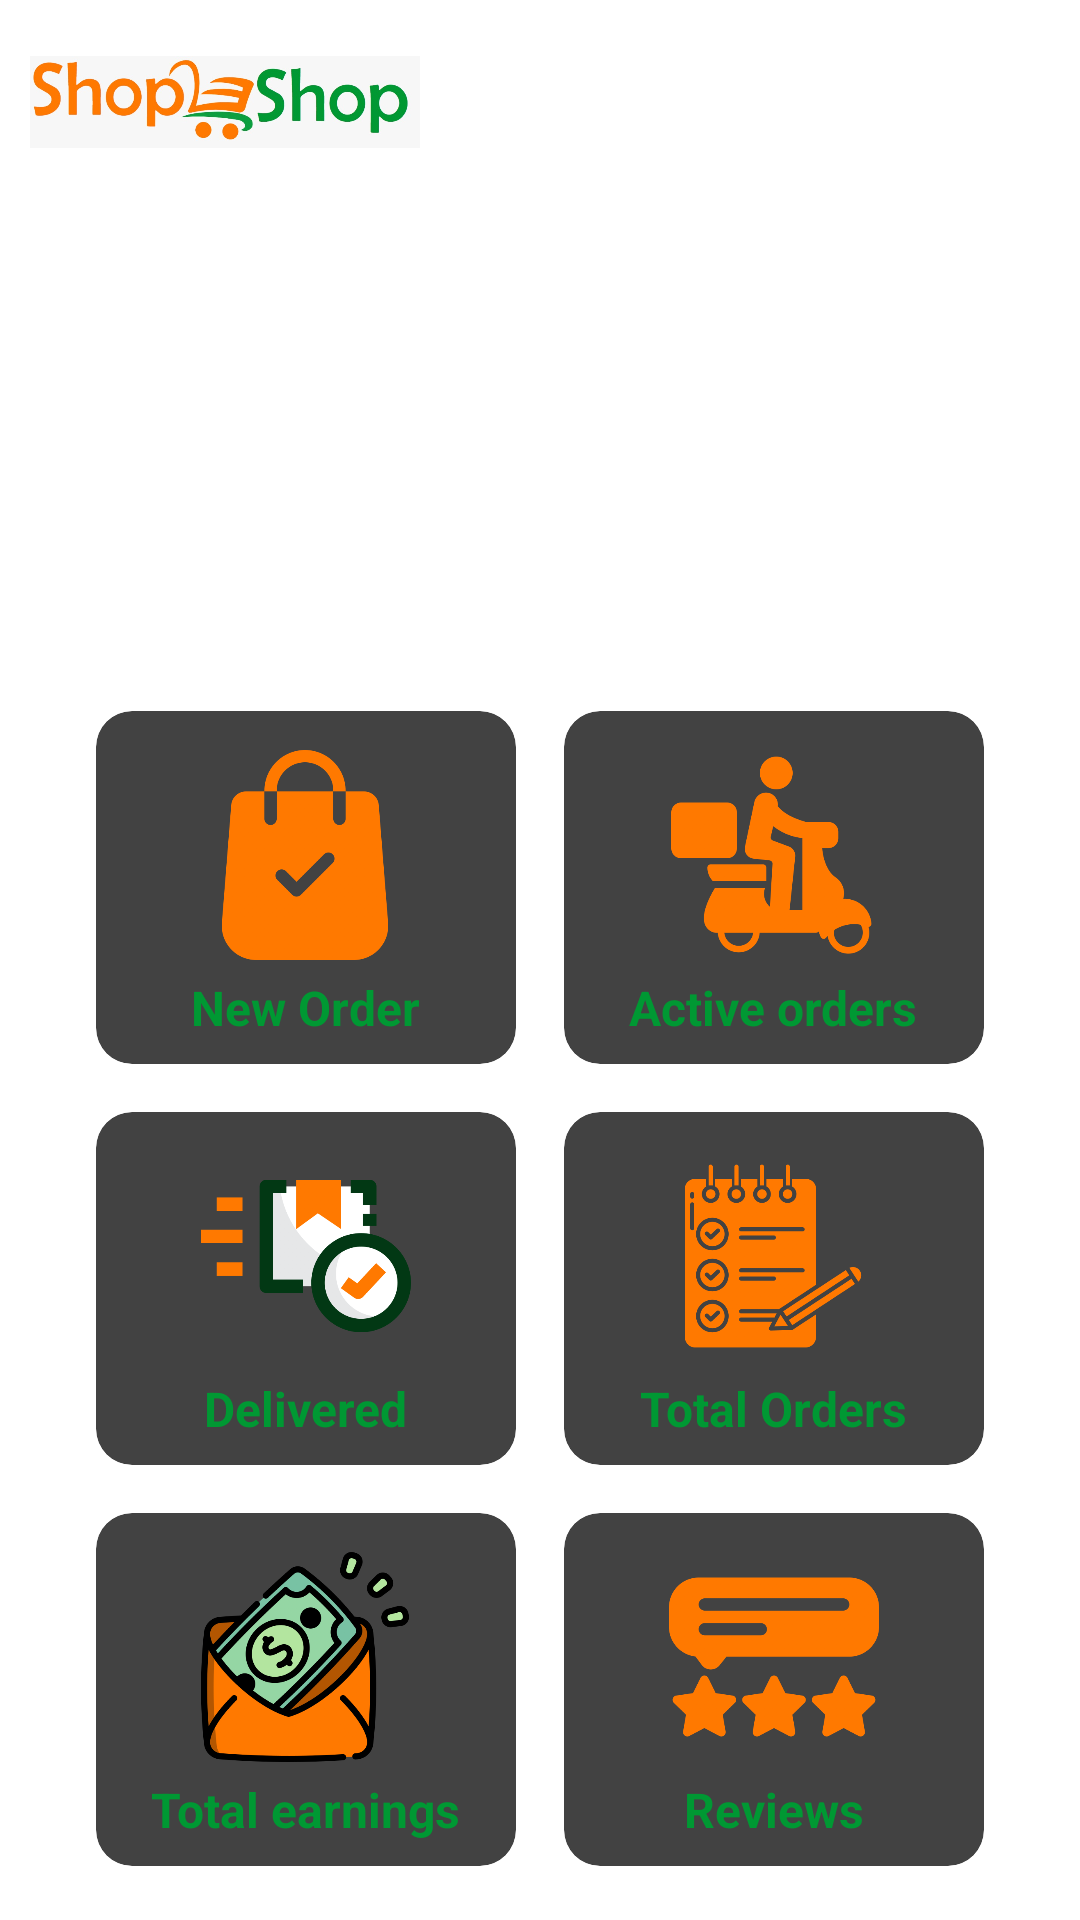

Where icons sit on this 1080x1920 app screen, as Rect(x1, y1, x2, y2):
scooter: Rect(671, 756, 872, 954)
